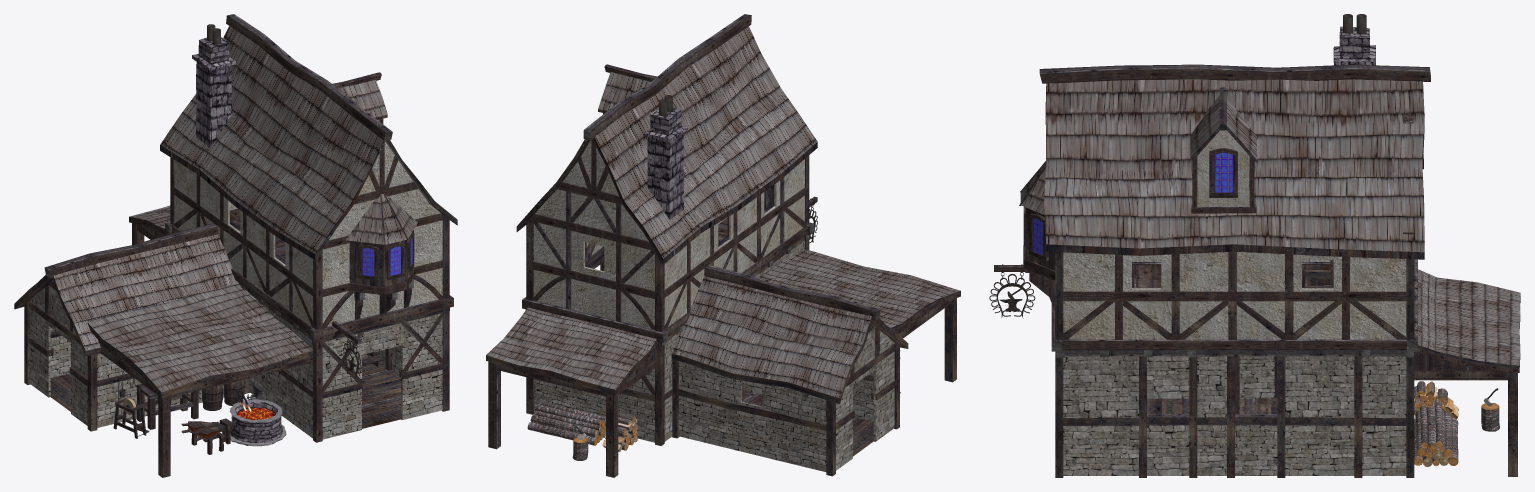
Rendered from forja_mobile.glb.
3 renders of one model, left to right at view 1: azimuth 30°, elevation 25°; view 2: azimuth 150°, elevation 25°; view 3: azimuth 270°, elevation 25°, orthographic. The views are drawn at different scales.
Visible parts, largest first — view 1: Roof, Barrel1, WallsBrickLevel1, WallsPlasterLevel2, Forge, Window1Level3, AnvilStand; view 2: Roof, Barrel1, WallsBrickLevel1, WallsPlasterLevel2, Forge, AnvilStand, PileofChoppedWood; view 3: Roof, Barrel1, WallsBrickLevel1, WallsPlasterLevel2, AnvilStand, PileofChoppedWood, Forge, Window1Level3.
Boxes of the visible parts, x1,y1,x2,y2 form: Roof: (53, 25, 454, 392); Barrel1: (14, 14, 457, 477); WallsBrickLevel1: (29, 285, 442, 439); WallsPlasterLevel2: (174, 119, 442, 326); Forge: (192, 37, 286, 446); Window1Level3: (362, 237, 412, 276); AnvilStand: (44, 132, 413, 441); Roof: (486, 26, 960, 398); Barrel1: (486, 14, 960, 477); WallsBrickLevel1: (534, 240, 894, 471); WallsPlasterLevel2: (534, 140, 804, 328); Forge: (643, 107, 688, 219); AnvilStand: (527, 130, 900, 460); PileofChoppedWood: (573, 416, 637, 451); Roof: (1020, 79, 1520, 365); Barrel1: (989, 14, 1520, 477); WallsBrickLevel1: (1063, 280, 1406, 475); WallsPlasterLevel2: (1063, 130, 1406, 339); AnvilStand: (1023, 67, 1499, 462); PileofChoppedWood: (1414, 381, 1499, 466); Forge: (1333, 26, 1375, 65); Window1Level3: (1033, 152, 1232, 254).
Bounding box in the file's own units: 9.83 × 9.81 × 11.94.
Materials: 18 (18 with a texture image).
